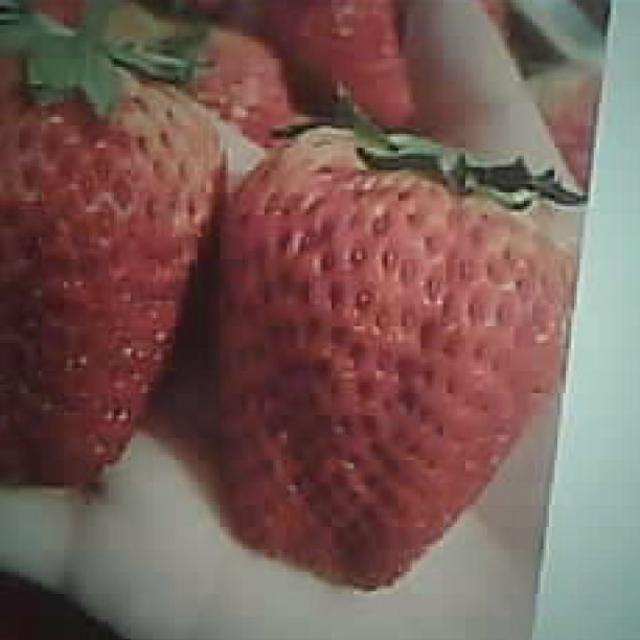Healthy Fruit: (214, 120, 577, 591), (1, 30, 215, 478)
